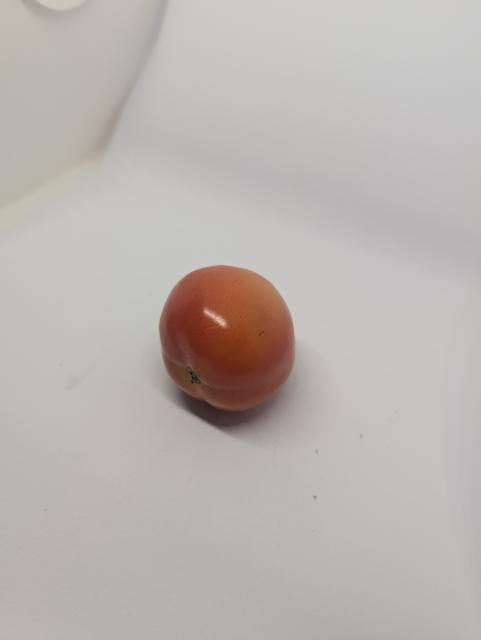red: (141, 240, 327, 426)
